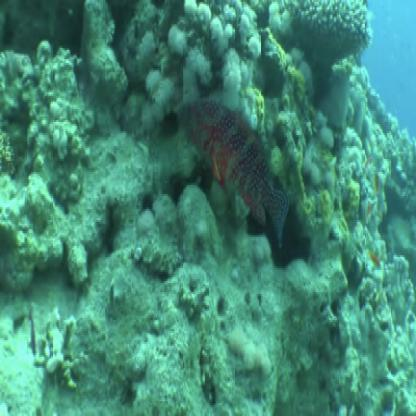grouper: (176, 92, 291, 251)
